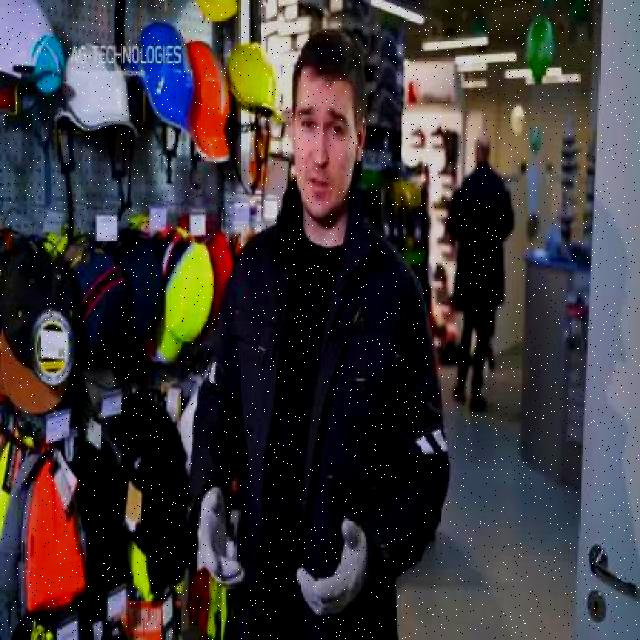Gloves: (295, 520, 374, 614), (191, 482, 246, 586)
Helmet: (132, 27, 200, 146), (55, 50, 140, 144), (0, 4, 69, 94), (186, 44, 232, 168), (230, 44, 276, 118)
